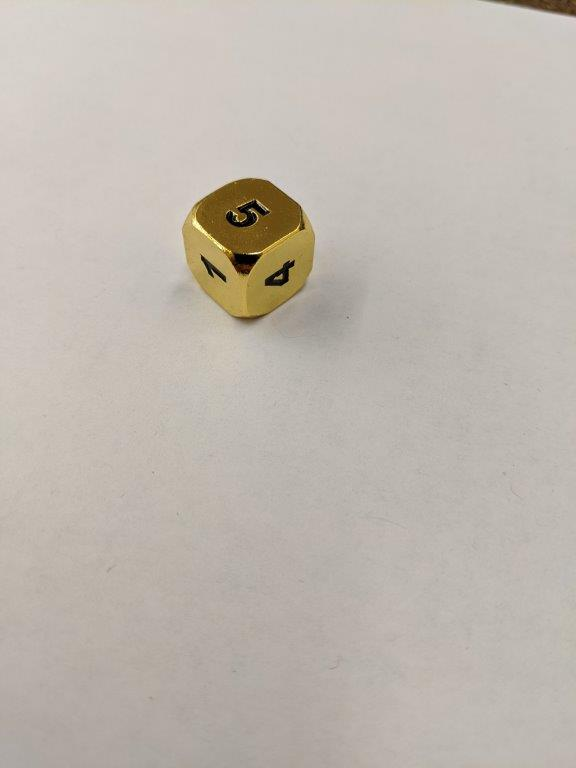d6-5: (182, 177, 321, 321)
